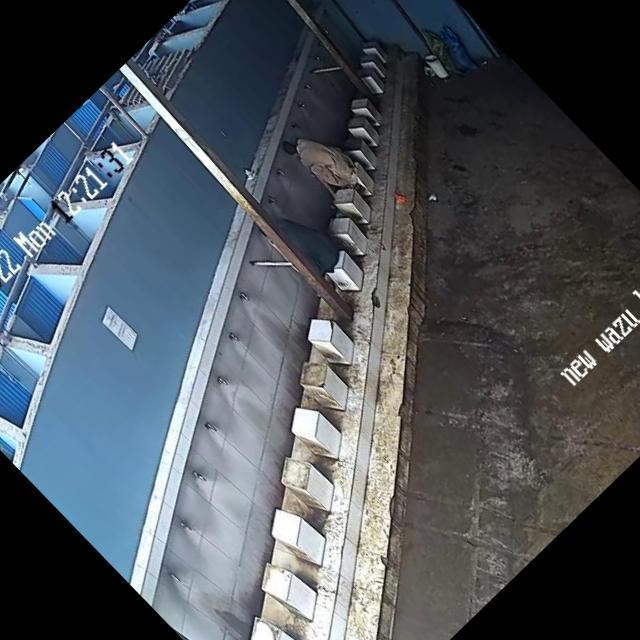person: (278, 112, 364, 198)
